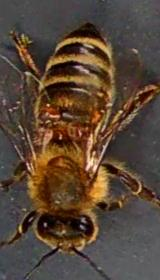varroa_mite: (36, 100, 64, 120)
